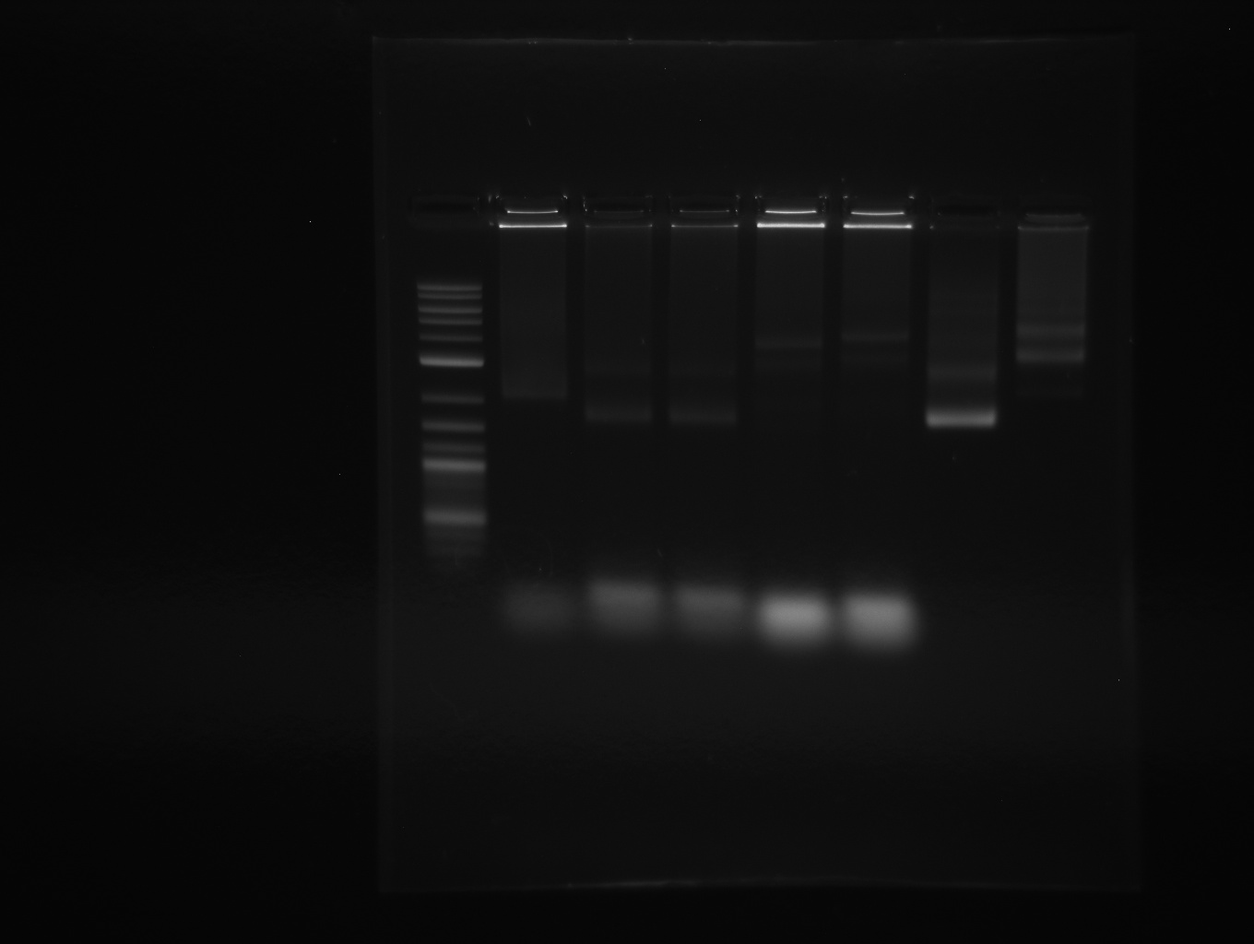Lane: (576, 152, 663, 944), (1010, 171, 1093, 944), (917, 180, 998, 944), (671, 157, 747, 944), (757, 166, 833, 944), (498, 159, 568, 944), (846, 175, 913, 944)
ladder: (403, 148, 486, 944)
